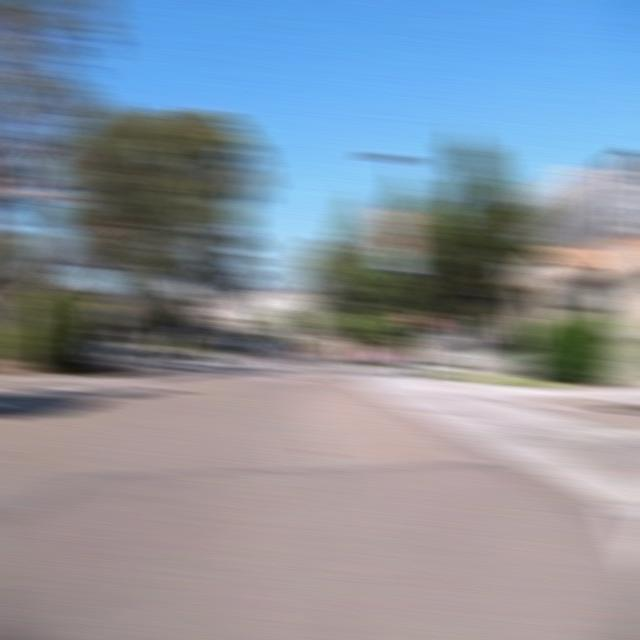stop: (404, 306, 438, 329)
